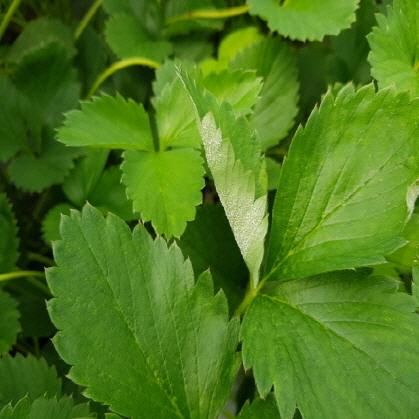Powdery Mildew Leaf: (261, 78, 418, 281), (174, 63, 269, 286)
